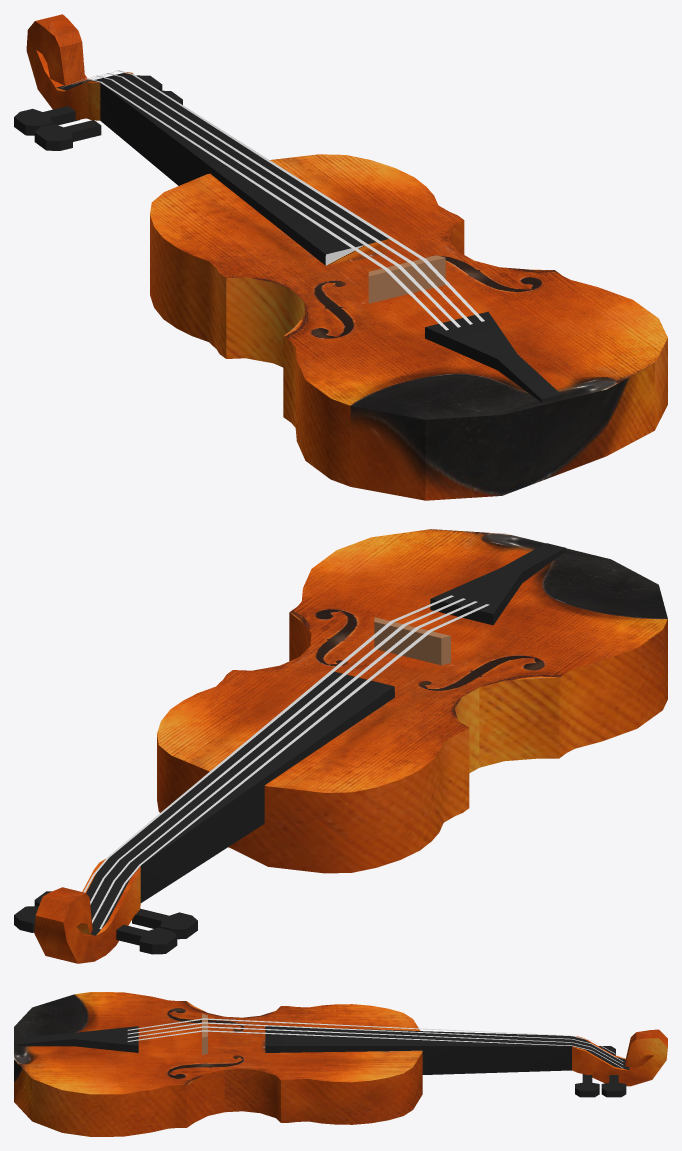
The model's file is violin.glb.
The picture shows the model from 3 angles, top to bottom: view 1: azimuth 30°, elevation 25°; view 2: azimuth 150°, elevation 25°; view 3: azimuth 270°, elevation 25°; orthographic projection. The views are drawn at different scales.
Visible parts, largest first — view 1: violin, strings, pin.003, pin.002; view 2: violin, strings, pin.002, pin.003; view 3: violin, strings, pin, pin.001.
Boxes of the visible parts, <box> form: violin: <box>26,14,667,500</box>; strings: <box>61,70,484,330</box>; pin.003: <box>34,120,101,150</box>; pin.002: <box>14,106,79,135</box>; violin: <box>34,529,667,963</box>; strings: <box>83,595,489,929</box>; pin.002: <box>116,924,177,954</box>; pin.003: <box>132,908,197,939</box>; violin: <box>14,992,667,1136</box>; strings: <box>127,1018,623,1068</box>; pin: <box>575,1074,599,1097</box>; pin.001: <box>601,1075,626,1097</box>.
Bounding box in the file's own units: 0.3023 × 0.0965 × 0.8178.
4 materials, 1 textured.
